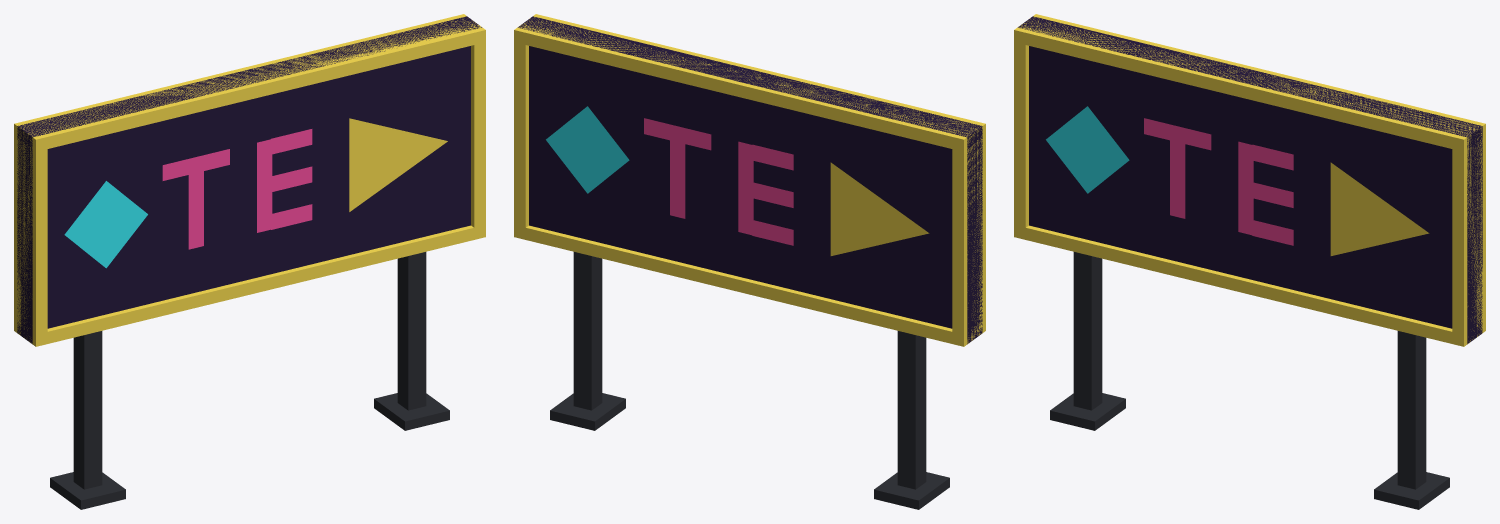
File: neon_sign_b.glb
3 views of the same model, side by side, from view 1: azimuth 30°, elevation 25°; view 2: azimuth 150°, elevation 25°; view 3: azimuth 330°, elevation 25° (orthographic).
Parts seen in each view (by area): view 1: neon_sign_b; view 2: neon_sign_b; view 3: neon_sign_b.
Boxes of the visible parts, <box> form: neon_sign_b: <box>14,14,485,509</box>; neon_sign_b: <box>514,14,985,509</box>; neon_sign_b: <box>1014,14,1485,509</box>.
Bounding box in the file's own units: 0.5 × 0.4 × 0.06.
